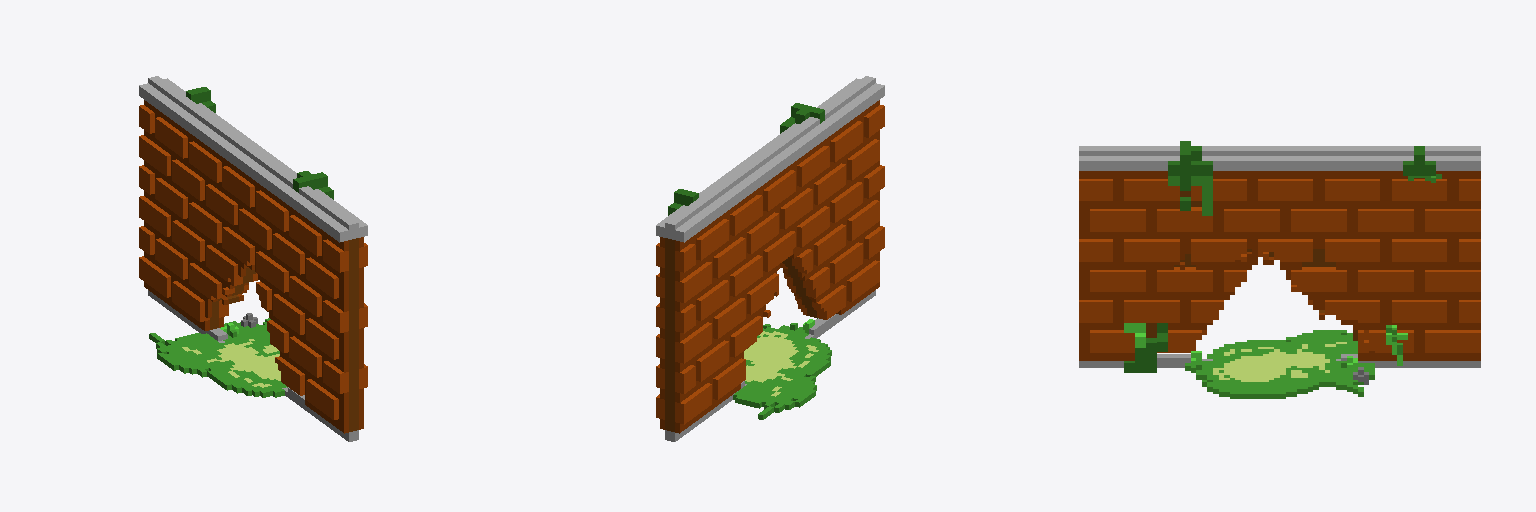
The picture shows the model from 3 angles: view 1: azimuth 30°, elevation 25°; view 2: azimuth 150°, elevation 25°; view 3: azimuth 270°, elevation 25°; orthographic projection.
Parts seen in each view (by area): view 1: wall-1; view 2: wall-1; view 3: wall-1.
Boxes of the visible parts, x1,y1,x2,y2 form: wall-1: [139, 76, 367, 441]; wall-1: [656, 76, 884, 441]; wall-1: [1079, 141, 1480, 398].
Size of the model in its own units: 27 by 44 by 72.
Materials: 1 (1 with a texture image).